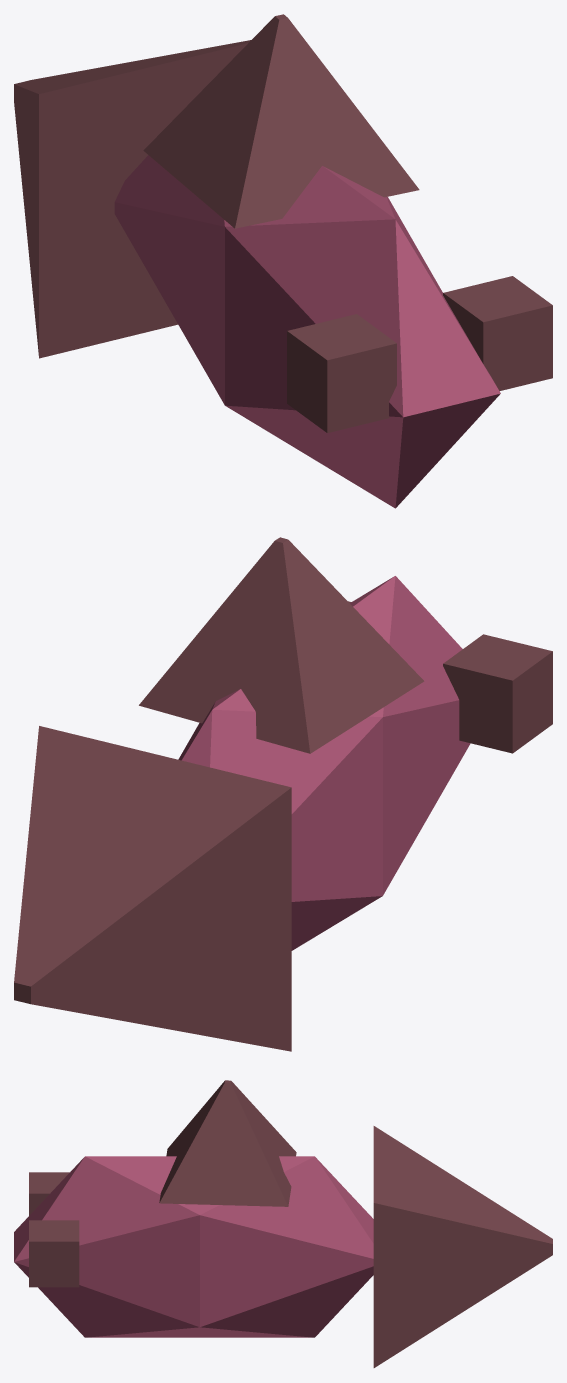
Rendered from fish_l.glb.
The picture shows the model from 3 angles, top to bottom: view 1: azimuth 30°, elevation 25°; view 2: azimuth 150°, elevation 25°; view 3: azimuth 270°, elevation 25°; orthographic projection. The views are drawn at different scales.
Visible parts, largest first — view 1: Body, Tail, Dorsal, EyeR, EyeL; view 2: Tail, Body, Dorsal, EyeR; view 3: Body, Tail, Dorsal, EyeL, EyeR.
Boxes of the visible parts, x1,y1,x2,y2 form: Body: [114, 155, 500, 508]; Tail: [14, 40, 250, 358]; Dorsal: [143, 14, 419, 228]; EyeR: [287, 314, 396, 433]; EyeL: [443, 276, 552, 390]; Tail: [14, 726, 291, 1051]; Body: [178, 576, 470, 950]; Dorsal: [139, 537, 424, 753]; EyeR: [443, 634, 552, 753]; Body: [14, 1156, 373, 1337]; Tail: [373, 1126, 552, 1367]; Dorsal: [159, 1080, 296, 1206]; EyeL: [29, 1220, 79, 1287]; EyeR: [29, 1172, 69, 1215].
Bounding box in the file's own units: 0.4243 × 0.6552 × 1.25.
